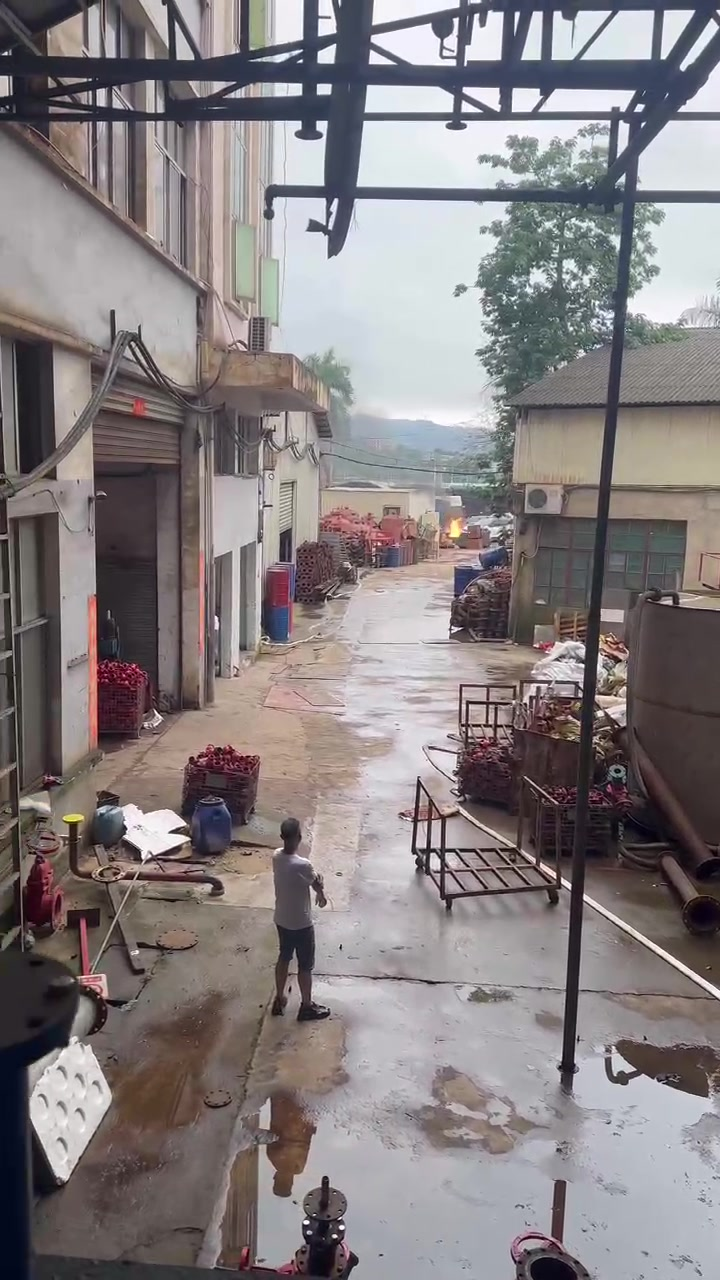fire: (448, 516, 462, 536)
